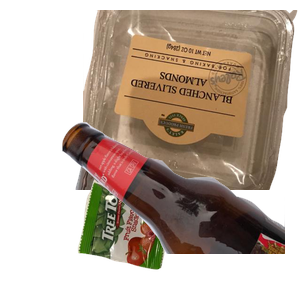glass: (60, 120, 300, 300)
metal: (73, 52, 263, 232)
plastic: (83, 10, 300, 190)
trash: (75, 156, 244, 300)
